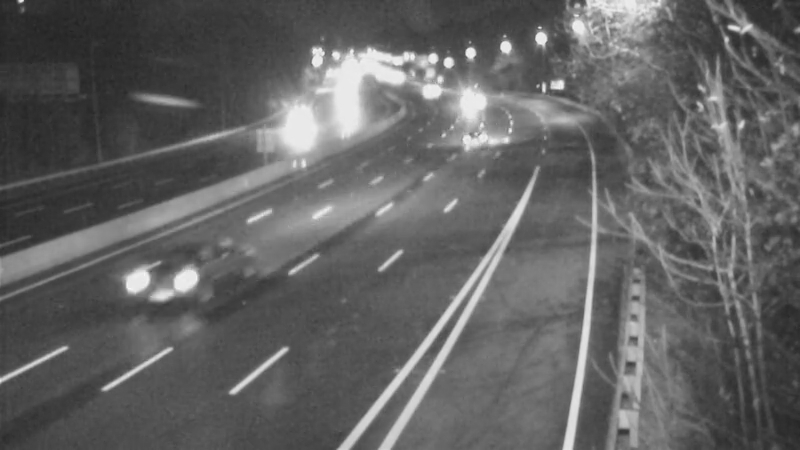vehicle: (141, 235, 221, 315), (405, 63, 455, 113), (440, 79, 490, 129), (447, 111, 497, 161), (262, 113, 312, 163)
